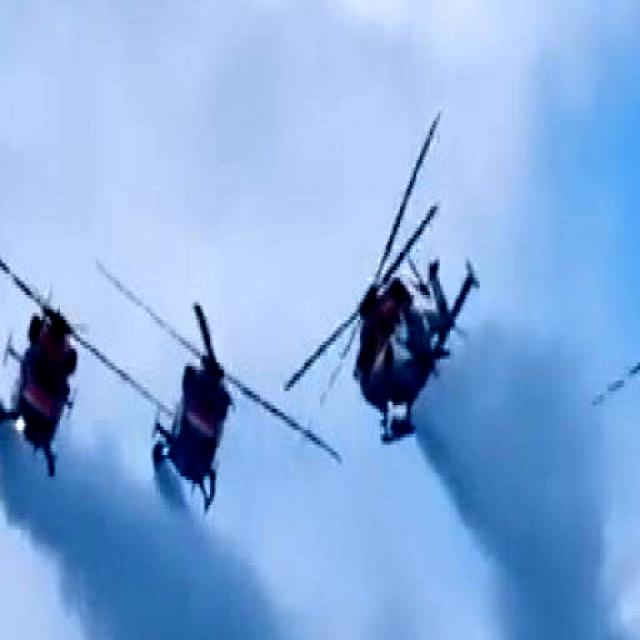drone: (291, 90, 478, 474), (106, 206, 304, 555), (0, 175, 130, 492)
